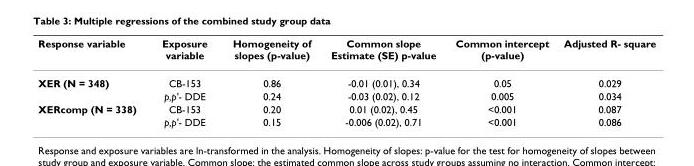table: (37, 36, 655, 127)
table column: (320, 36, 445, 127), (37, 36, 148, 127), (445, 36, 555, 127), (219, 36, 320, 127), (555, 36, 655, 127), (148, 36, 219, 127)
table column header: (37, 36, 655, 68)
table row: (37, 36, 655, 68), (37, 68, 655, 89), (37, 89, 655, 102), (37, 102, 655, 115), (37, 115, 655, 127)
table spanning cell: (37, 68, 148, 102), (37, 102, 148, 127)
